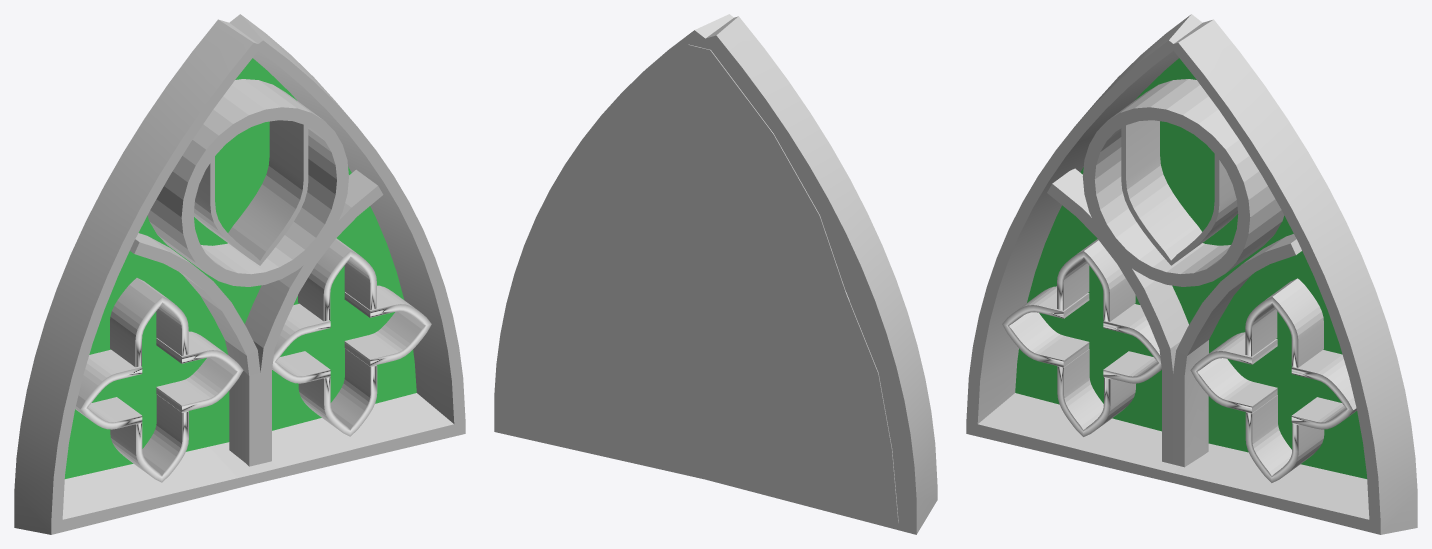
Rendered from Window3_Fixed.fbx.
The picture shows the model from 3 angles, left to right: view 1: azimuth 30°, elevation 25°; view 2: azimuth 150°, elevation 25°; view 3: azimuth 330°, elevation 25°; orthographic projection.
Visible parts, largest first — view 1: Window; view 2: Window; view 3: Window.
Boxes of the visible parts, x1,y1,x2,y2 form: Window: (14, 14, 465, 534); Window: (494, 14, 937, 534); Window: (966, 14, 1417, 534).
Size of the model in its own units: 2100 by 2142 by 342.
